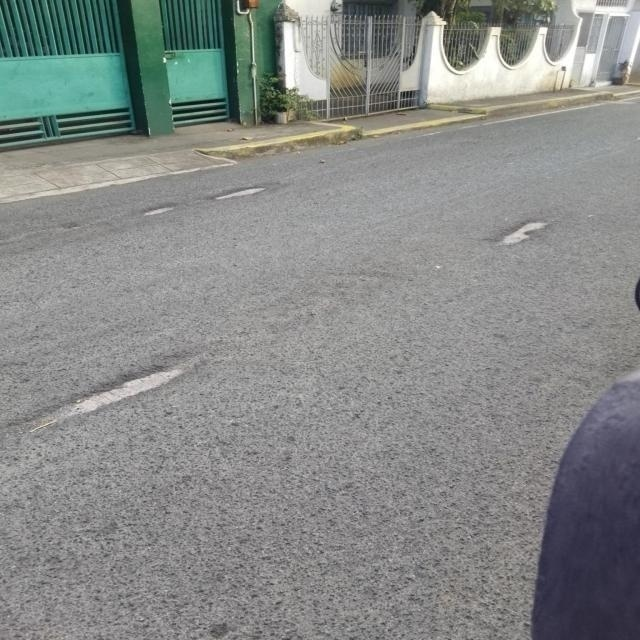pothole: (0, 320, 188, 467), (459, 202, 606, 272), (202, 176, 312, 213), (119, 192, 190, 230)
